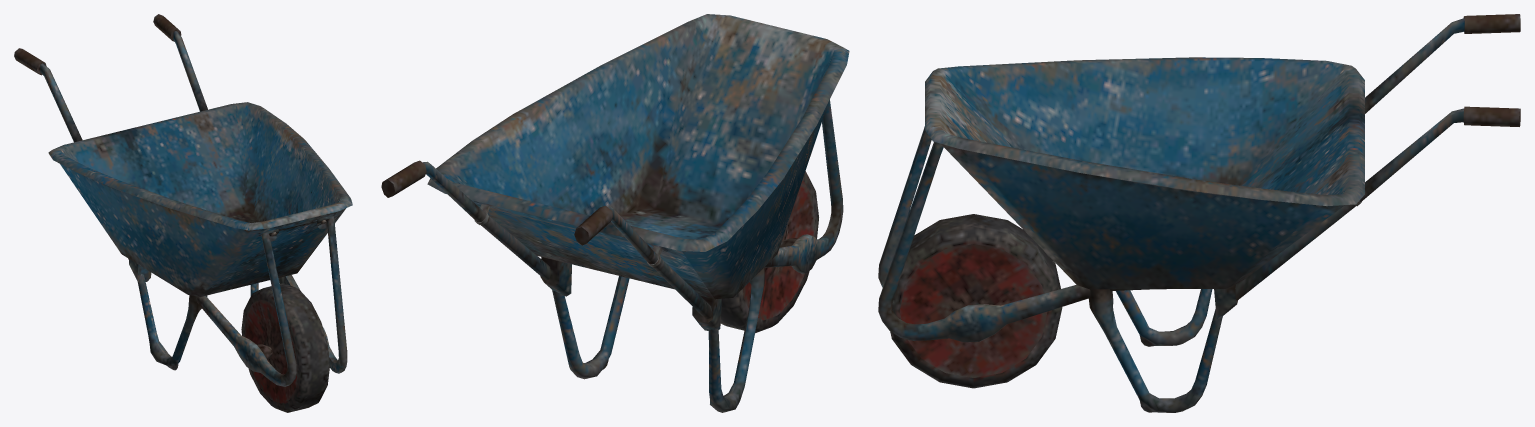
File: 111_WheelBarrow.fbx
The picture shows the model from 3 angles, left to right: view 1: azimuth 30°, elevation 25°; view 2: azimuth 150°, elevation 25°; view 3: azimuth 270°, elevation 25°; orthographic projection. The views are drawn at different scales.
Visible parts, largest first — view 1: LOD_1_Group_0_Sub_1__sm30_111_WheelBarrow01A_A_Mat; view 2: LOD_1_Group_0_Sub_1__sm30_111_WheelBarrow01A_A_Mat; view 3: LOD_1_Group_0_Sub_1__sm30_111_WheelBarrow01A_A_Mat.
Boxes of the visible parts, left/top/right/bottom form: LOD_1_Group_0_Sub_1__sm30_111_WheelBarrow01A_A_Mat: left=14, top=14, right=352, bottom=412; LOD_1_Group_0_Sub_1__sm30_111_WheelBarrow01A_A_Mat: left=381, top=14, right=849, bottom=412; LOD_1_Group_0_Sub_1__sm30_111_WheelBarrow01A_A_Mat: left=878, top=14, right=1520, bottom=412.
Size of the model in its own units: 0.7505 by 0.7825 by 1.42.
